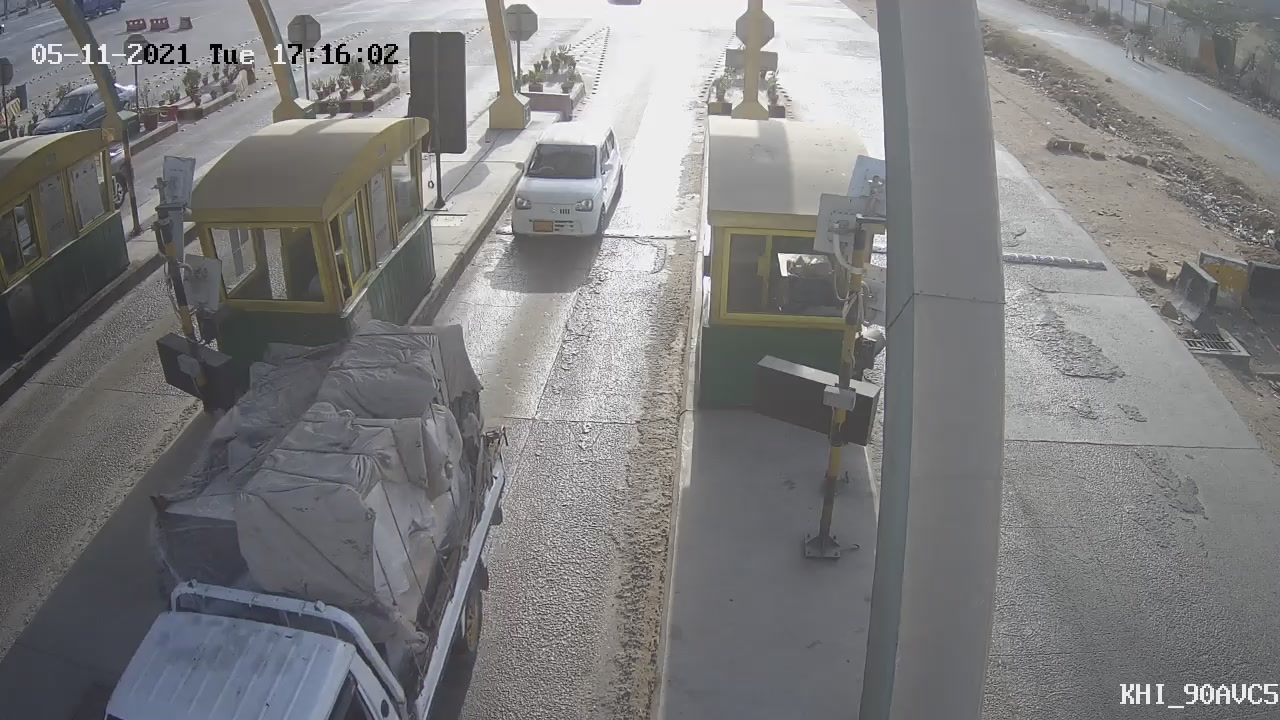F1: (490, 108, 640, 265)
